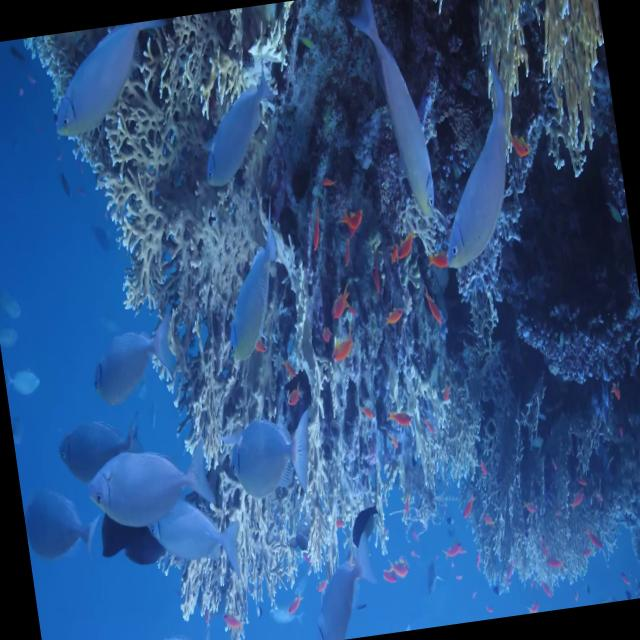fish: (406, 41, 545, 284), (339, 0, 445, 239), (38, 19, 181, 152), (186, 48, 294, 195), (213, 396, 334, 526), (83, 431, 222, 544), (208, 222, 300, 376), (49, 402, 150, 507), (79, 308, 187, 404), (22, 482, 102, 580), (302, 553, 384, 640), (2, 355, 48, 410), (141, 612, 230, 640), (341, 500, 387, 550), (319, 278, 356, 330), (325, 329, 358, 376), (420, 285, 452, 333), (454, 486, 486, 534), (419, 558, 449, 604), (584, 516, 614, 559), (433, 530, 470, 562), (392, 232, 420, 272), (386, 549, 414, 588), (376, 302, 407, 335), (380, 401, 412, 432)
